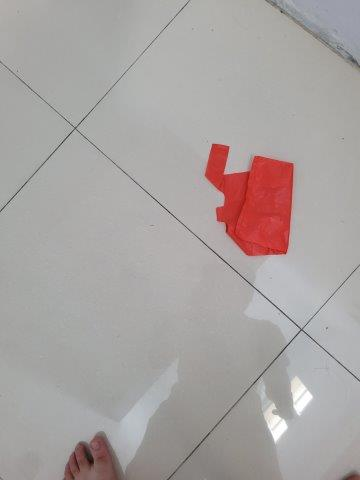plastik: (205, 145, 293, 258)
